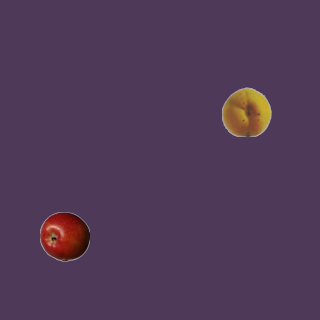Apple Braeburn: (39, 211, 89, 261)
Peach 2: (221, 86, 271, 136)
